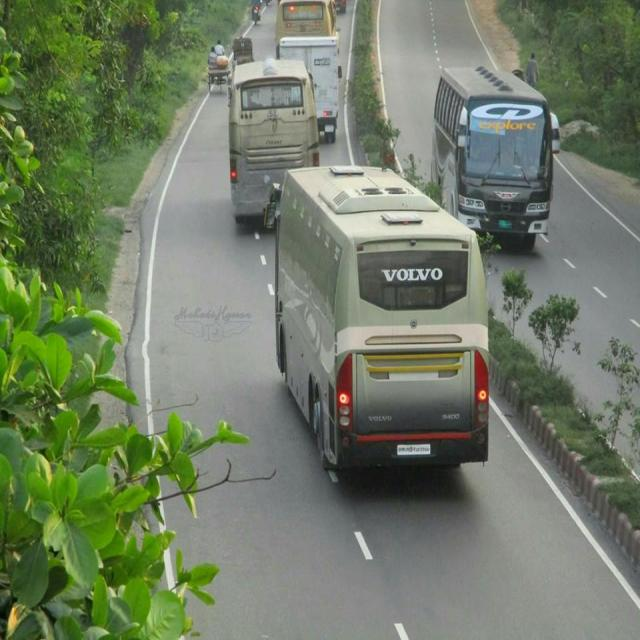bus: (264, 162, 490, 470), (430, 66, 552, 253), (227, 57, 320, 217)
